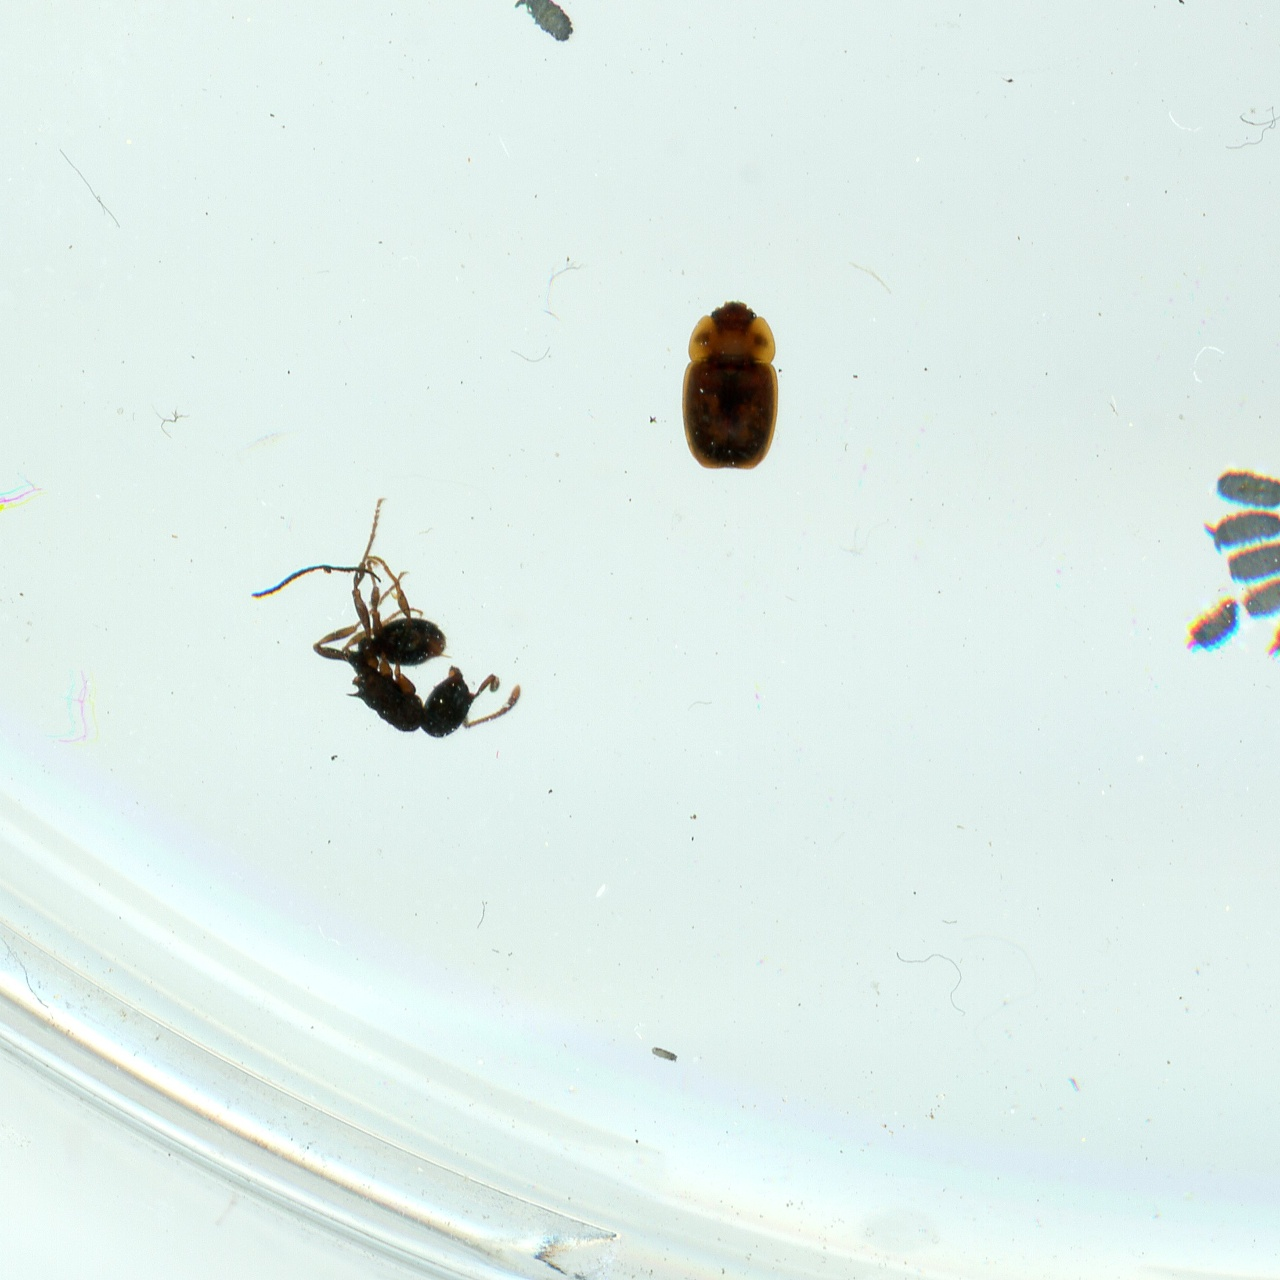arthropod: (245, 496, 527, 743), (676, 297, 788, 479), (1171, 584, 1253, 670), (1201, 503, 1280, 557), (1212, 463, 1280, 513), (1220, 533, 1280, 590), (511, 0, 576, 43), (1235, 566, 1280, 627), (1257, 586, 1280, 676)
